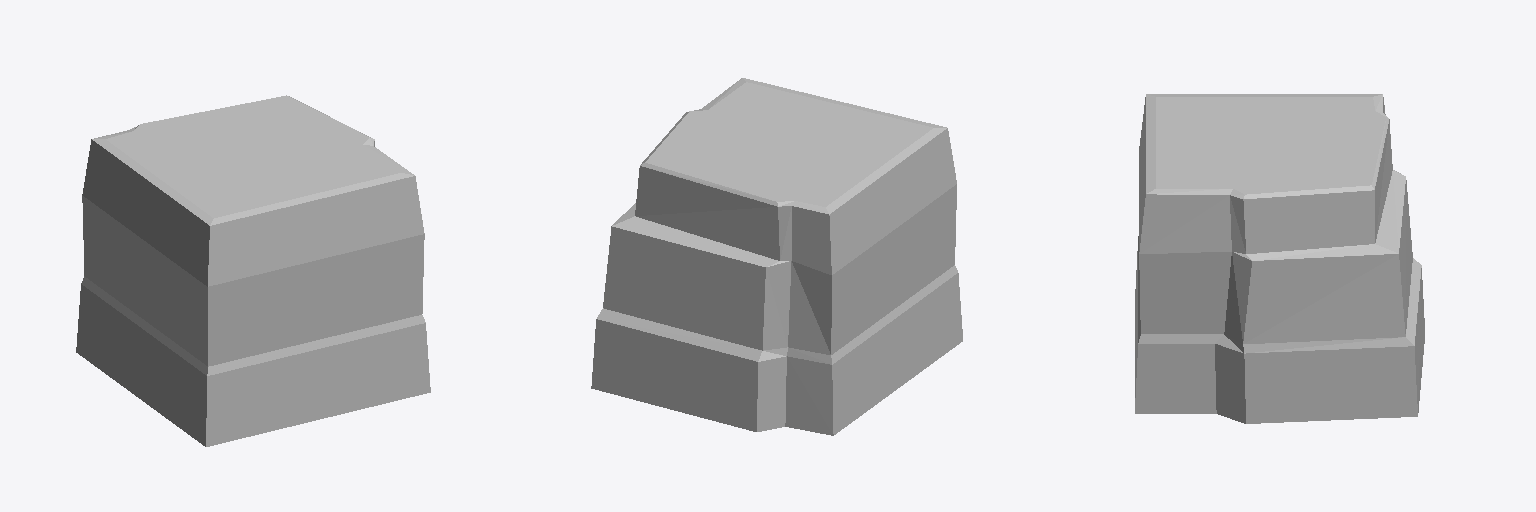
The model's file is corner2.obj.
3 renders of one model, left to right at view 1: azimuth 30°, elevation 25°; view 2: azimuth 150°, elevation 25°; view 3: azimuth 270°, elevation 25°, orthographic.
Bounding box in the file's own units: 1.19 × 1.01 × 1.23.